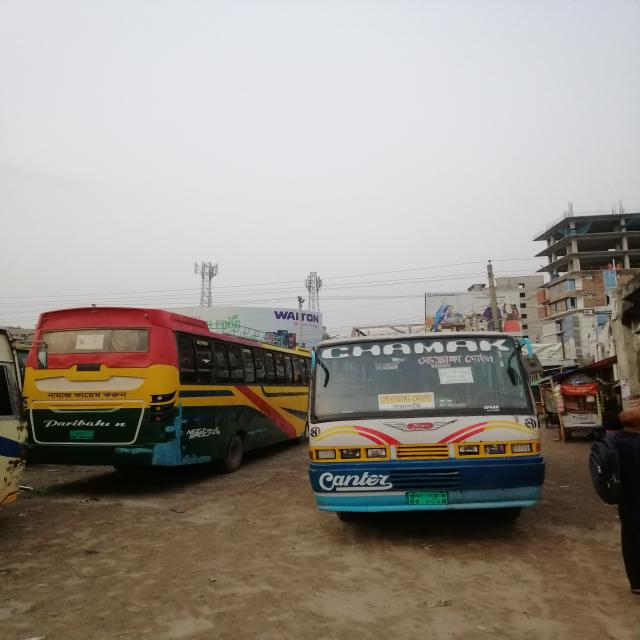Bus: (303, 320, 559, 540), (31, 305, 314, 474)
